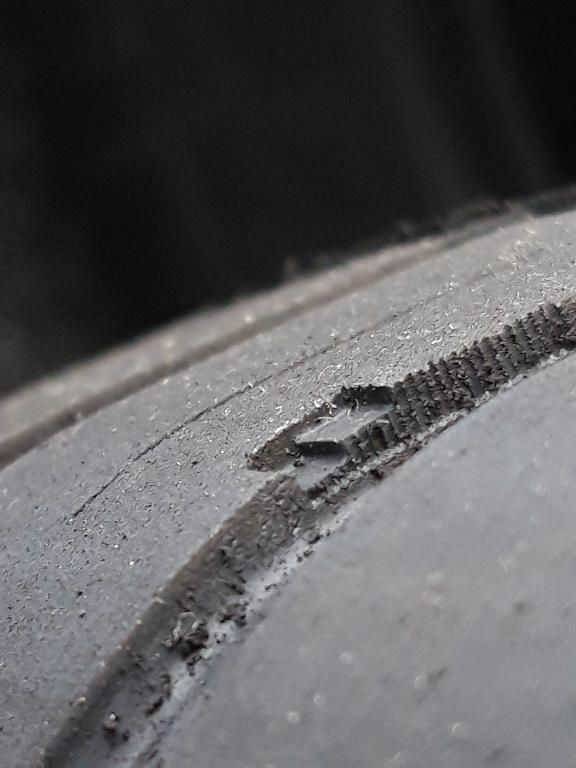temoin:25: (234, 378, 428, 520)
